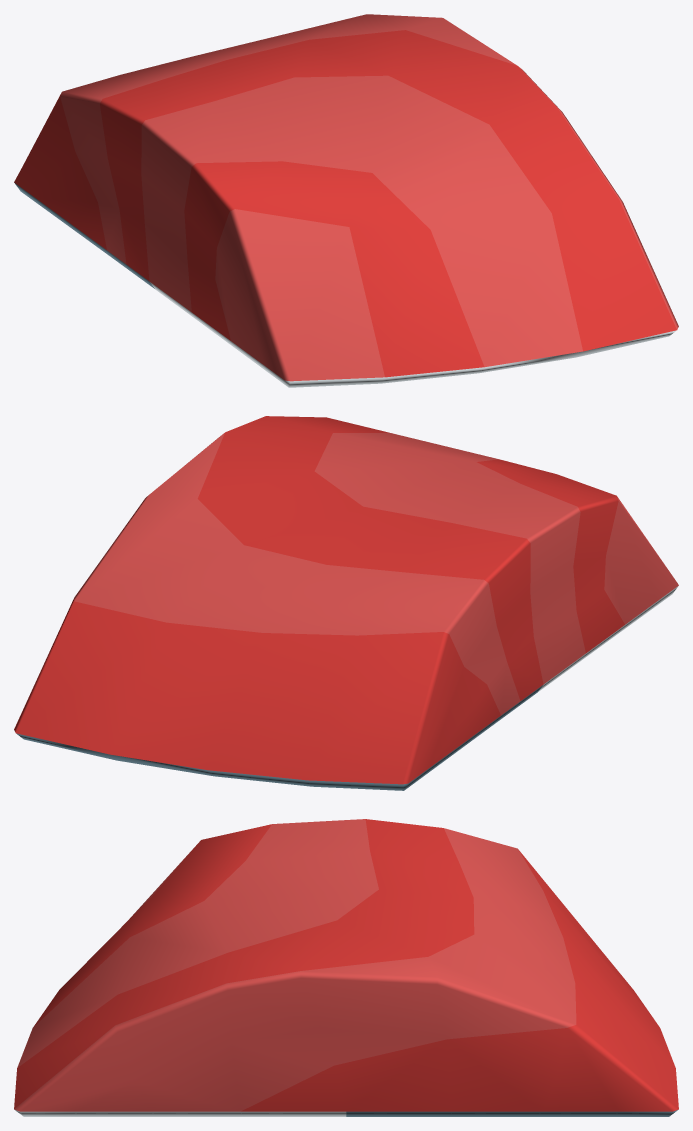
Rendered from Tuna_1_Fillet_4.fbx.
3 renders of one model, top to bottom at view 1: azimuth 30°, elevation 25°; view 2: azimuth 150°, elevation 25°; view 3: azimuth 270°, elevation 25°, orthographic. The views are drawn at different scales.
Visible parts, largest first — view 1: Tuna_1_Fillet_4; view 2: Tuna_1_Fillet_4; view 3: Tuna_1_Fillet_4.
Boxes of the visible parts, box(x1,y1,x2,y2) form: Tuna_1_Fillet_4: box(14, 14, 678, 387); Tuna_1_Fillet_4: box(14, 416, 678, 790); Tuna_1_Fillet_4: box(14, 819, 678, 1116).
Bounding box in the file's own units: 27.94 × 12.31 × 50.15.
